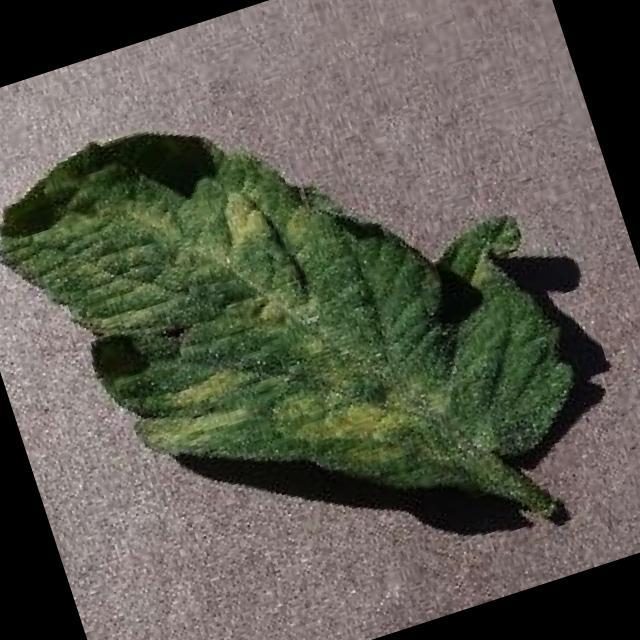Tomato mold leaf: (0, 23, 589, 602)
